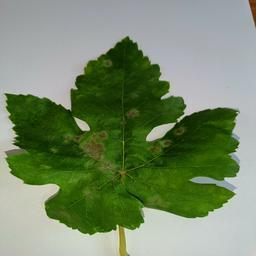Powdery-Mildew: (71, 135, 116, 170), (157, 141, 174, 158), (7, 150, 23, 166), (98, 53, 114, 69), (60, 172, 76, 188), (150, 194, 166, 210), (197, 195, 213, 211)
